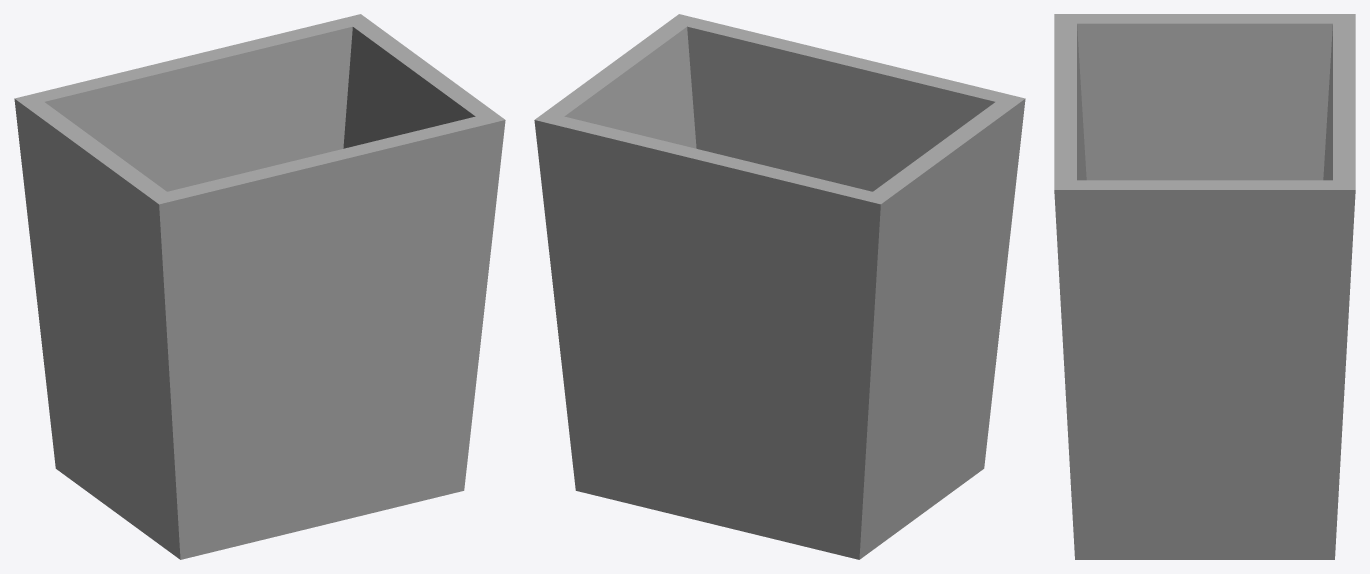
The model's file is TrashBinV1White.fbx.
3 renders of one model, left to right at view 1: azimuth 30°, elevation 25°; view 2: azimuth 150°, elevation 25°; view 3: azimuth 270°, elevation 25°, orthographic. The views are drawn at different scales.
Visible parts, largest first — view 1: TrashBinV1White; view 2: TrashBinV1White; view 3: TrashBinV1White.
Boxes of the visible parts, x1,y1,x2,y2 form: TrashBinV1White: (14, 14, 505, 559); TrashBinV1White: (534, 14, 1025, 559); TrashBinV1White: (1054, 14, 1355, 559).
Size of the model in its own units: 33.16 by 33.89 by 23.99.
